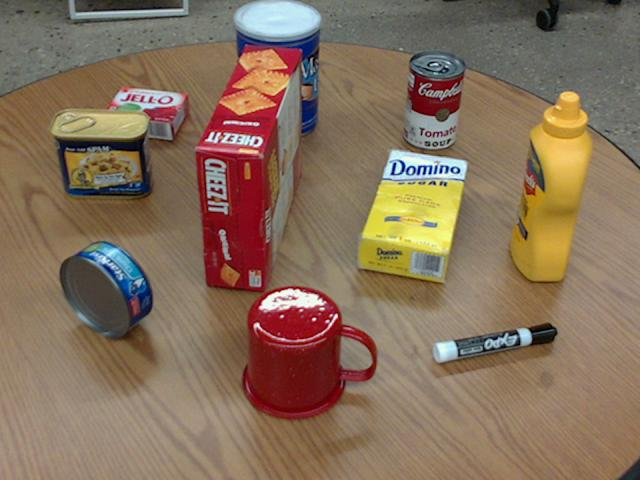cracker_box: (195, 44, 300, 291)
gelatin_box: (100, 85, 187, 137)
large_marker: (433, 323, 556, 363)
master_chef_can: (233, 0, 319, 138)
mug: (242, 285, 375, 418)
mustard_bottle: (510, 93, 591, 280)
potted_meat_can: (50, 107, 151, 195)
sugar_box: (357, 151, 467, 279)
tomato_soup_can: (403, 51, 465, 149)
tuna_fish_can: (60, 241, 153, 336)
